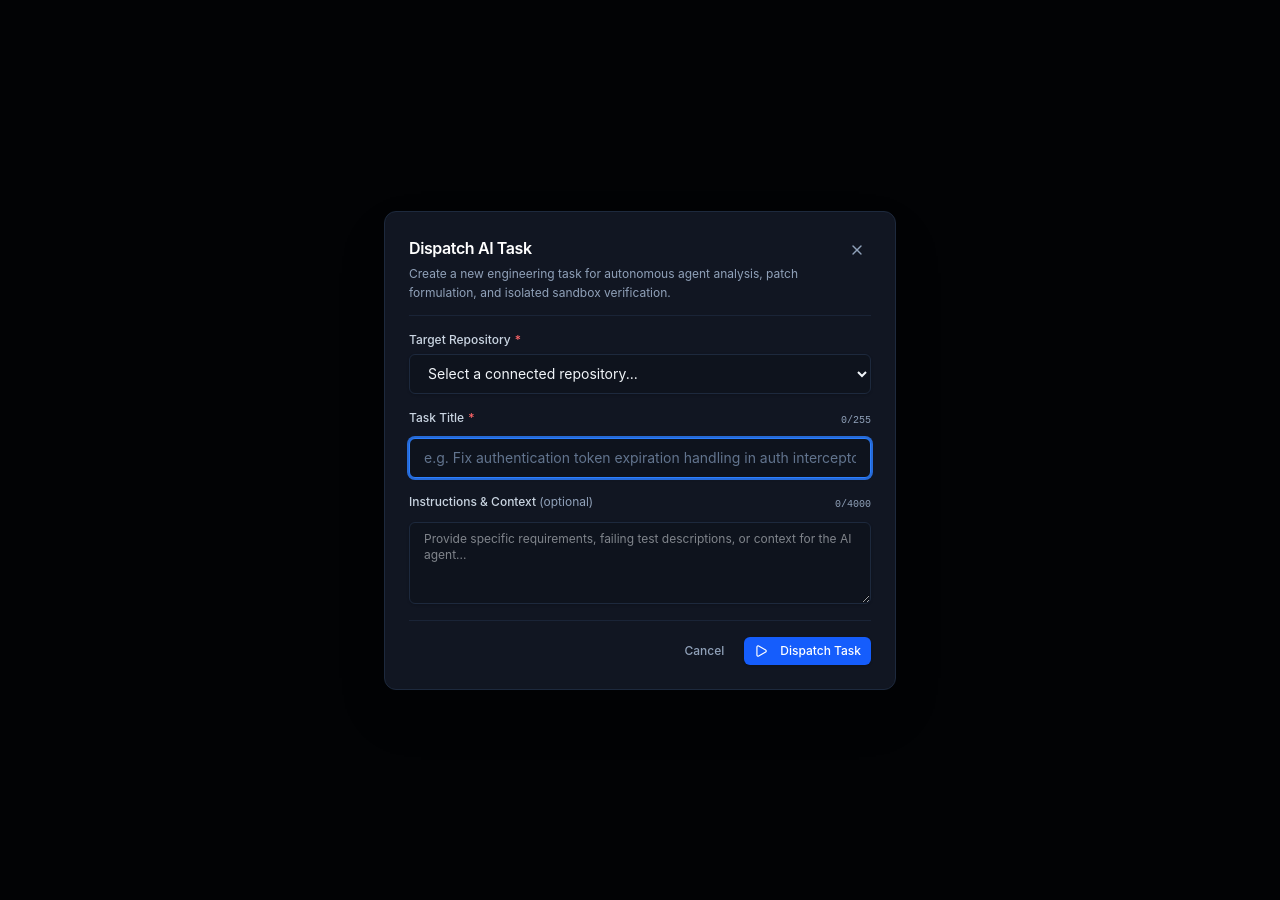
Test: CreateTaskDialog › validates required fields when submitted empty
Click the button "Dispatch Task": (808, 650) [744, 636, 871, 664]
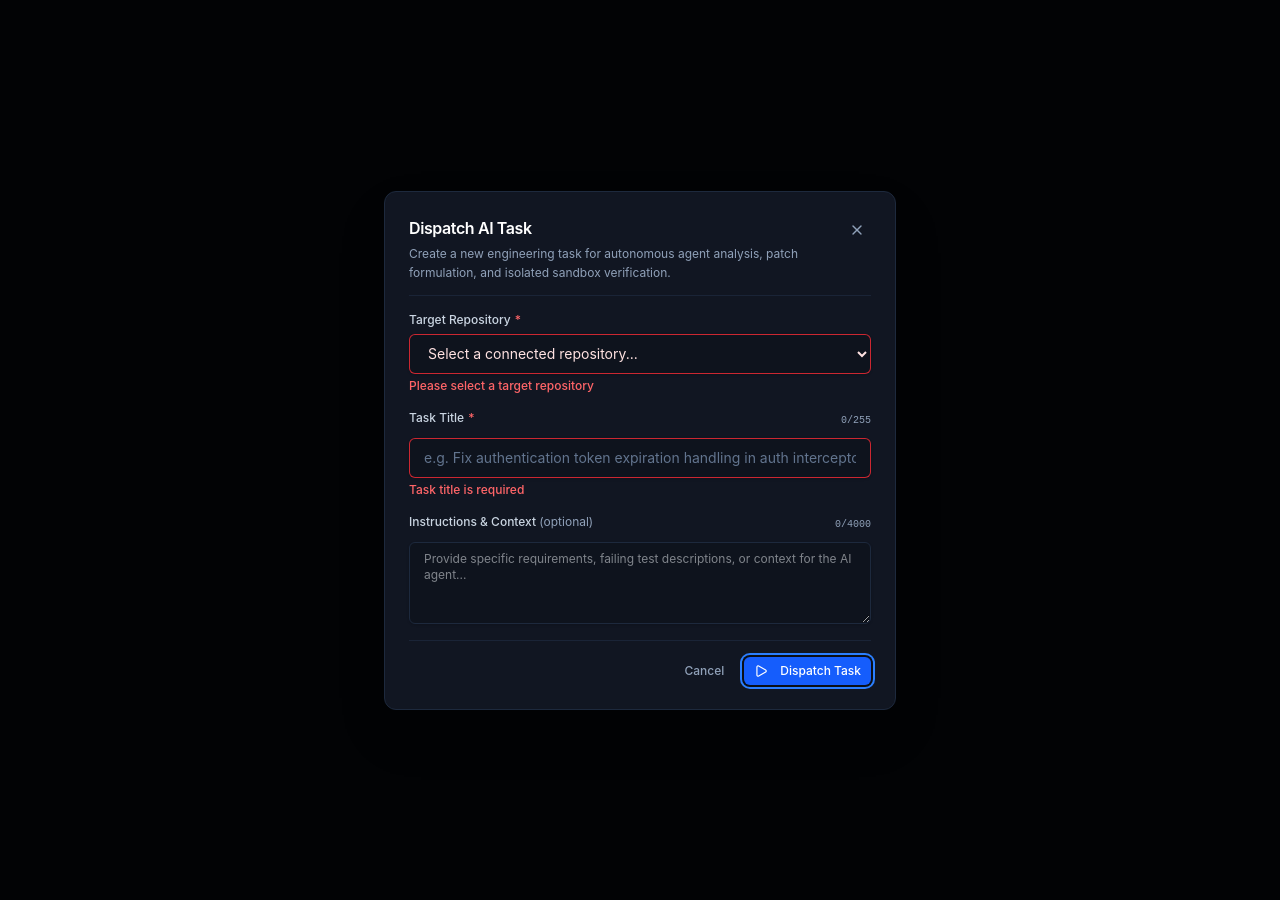
Result: the text "Please select a target repository" is shown at [409, 378, 594, 392]
Result: the text "Task title is required" is shown at [409, 482, 524, 496]
